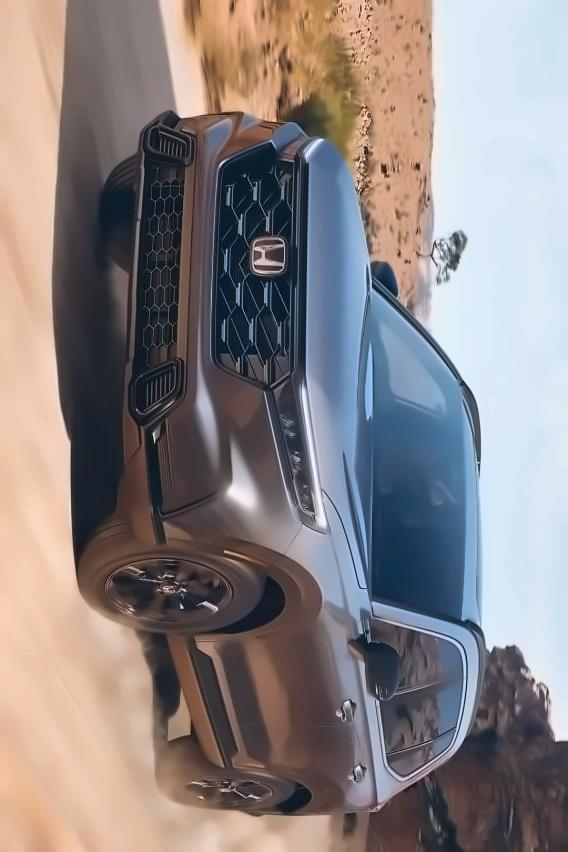Car hood: (300, 129, 379, 587)
Fender - -F-L-: (159, 492, 379, 645)
Fender - -R-L-: (299, 775, 376, 819)
Front bumper: (105, 92, 264, 549)
Headlight - -L-: (252, 360, 339, 546)
Headlight - -R-: (260, 112, 325, 172)
Passenger-s door - -F-L-: (180, 620, 484, 725)
Passenger-s door - -R-L-: (205, 689, 484, 790)
Rear bumper: (224, 784, 310, 831)
Rear light - -L-: (360, 792, 392, 825)
Side bumper - -L-: (155, 612, 243, 782)
Side mirror - -L-: (347, 615, 411, 707)
